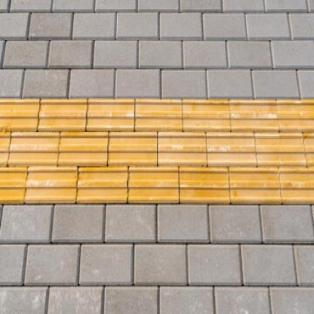Podoctatil: (0, 89, 314, 213)
